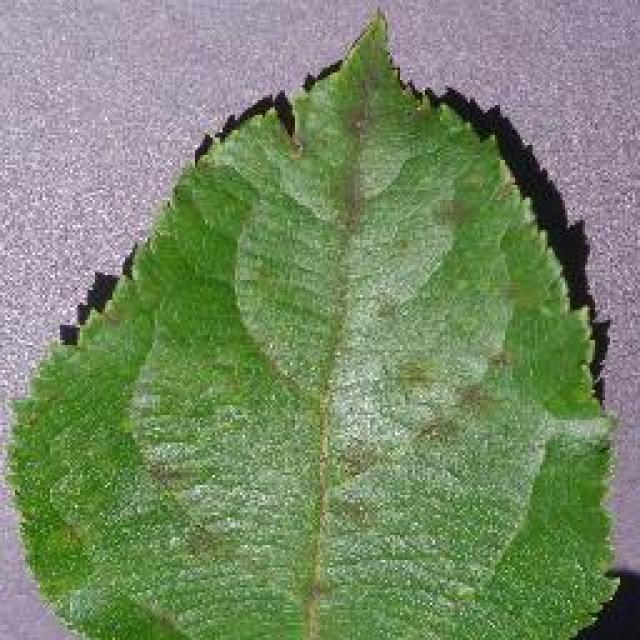apple scab disease: (5, 5, 623, 637)
